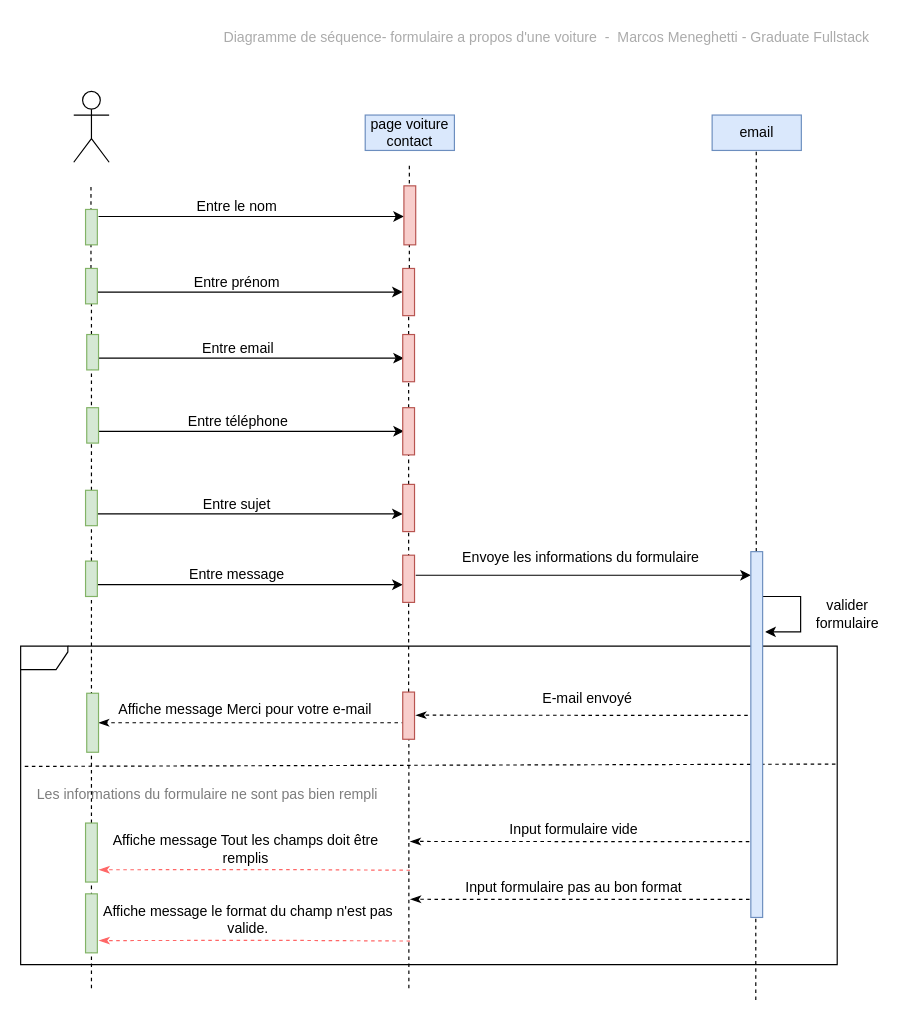
Some shapes in this 919 by 1022 pixel diagram are drawn without their labels. The box of each missing label's shape, as (x1, y1, x2, y2) in pixels:
alt: (19, 645, 837, 965)
Visiteur: (73, 90, 109, 162)
